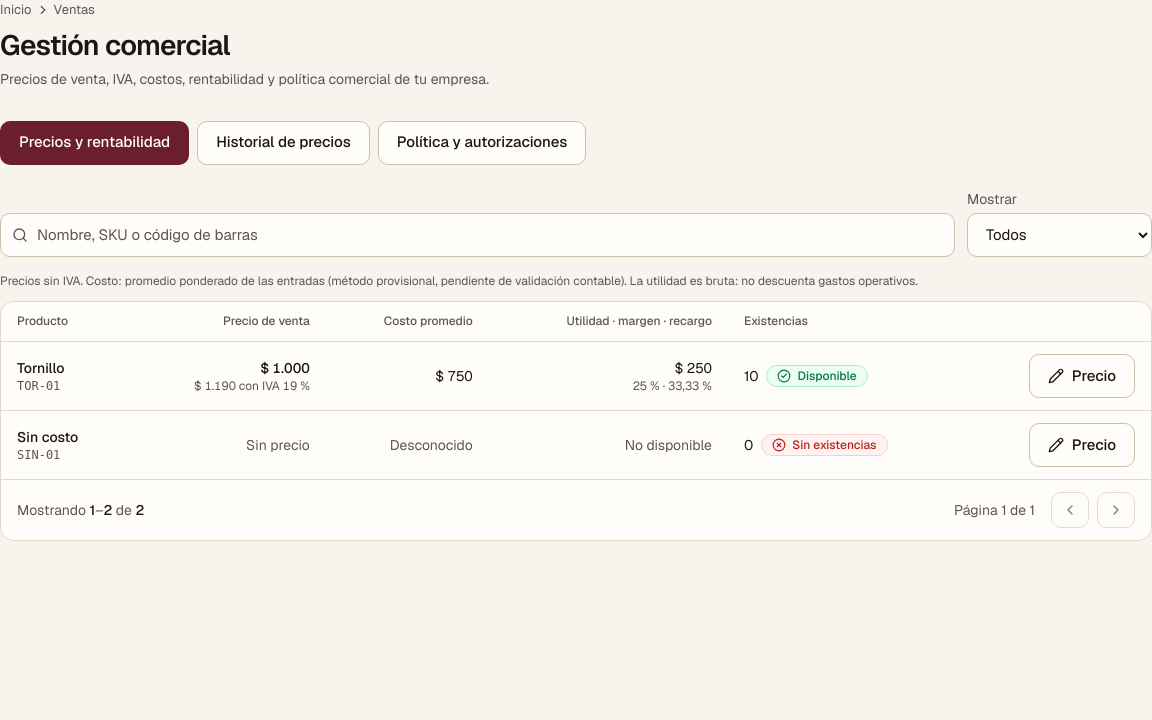
Test case: Gestión comercial › un producto excluido se envía con tarifa 0 y los errores del servidor se muestran
Click the button with aria-label "Cambiar precio de Tornillo". click: [1082, 376]
box: [1029,354,1135,398]
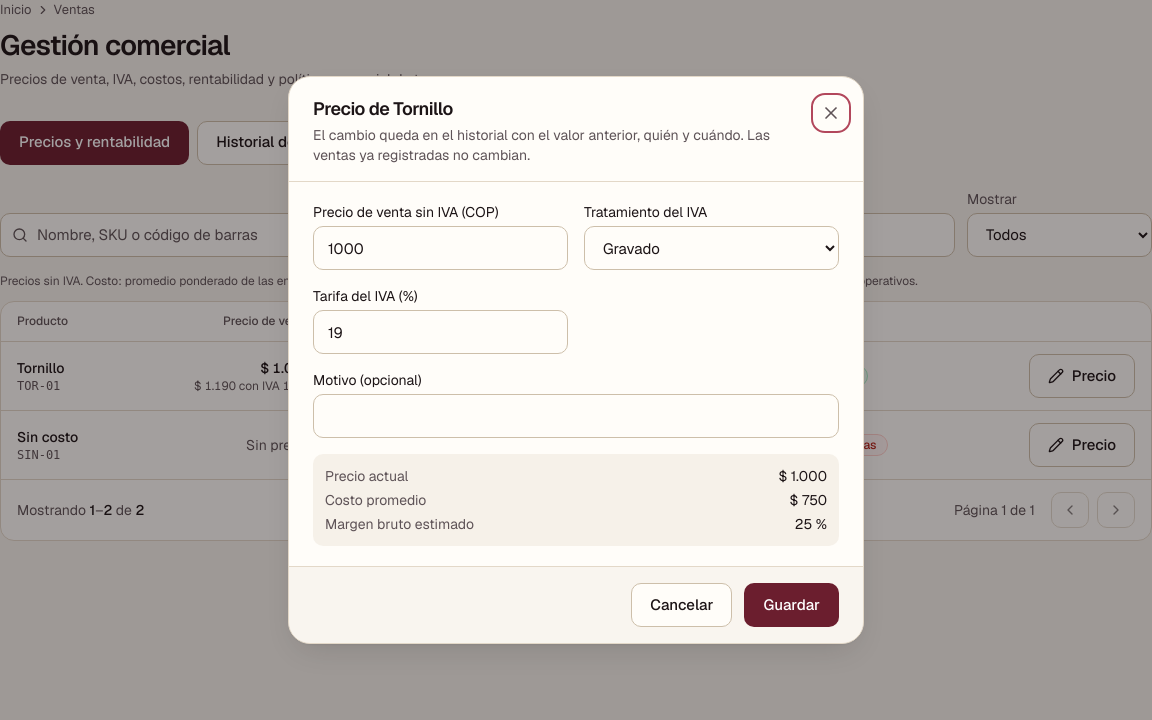
Select "Excluido" in the dropdown labelled "Tratamiento del IVA". click: [712, 248]
box: [584,226,839,270]
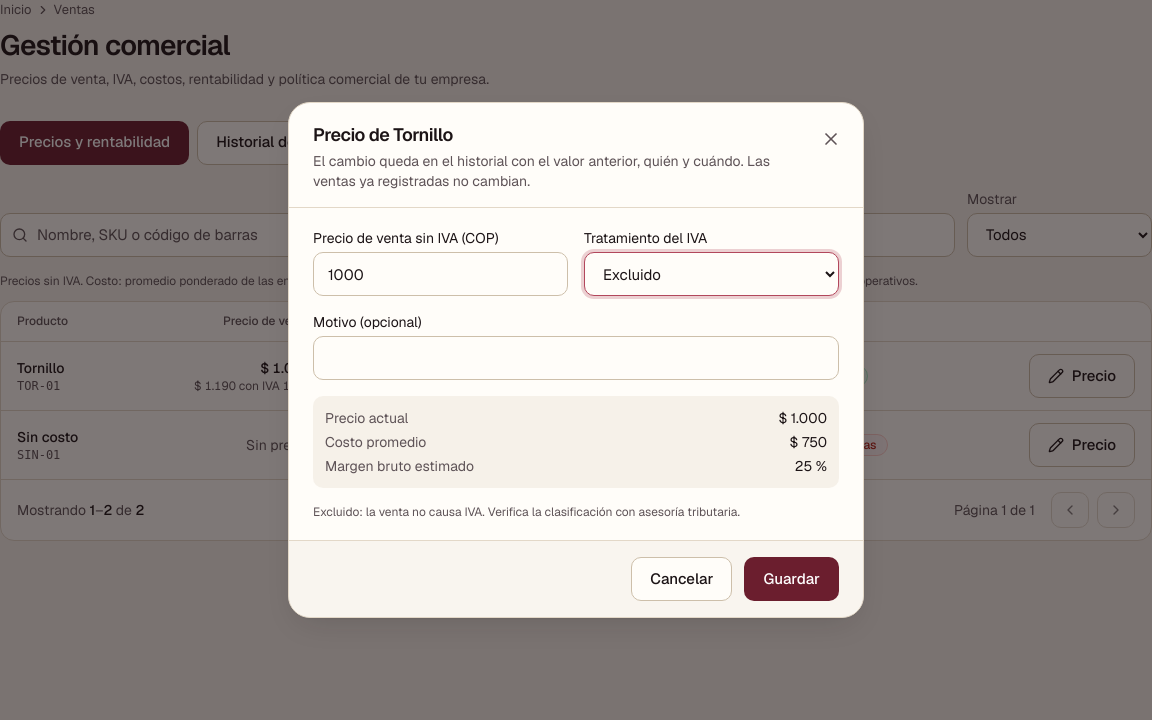
Check: the label labelled "Tarifa del IVA (%)" is gone
Click the button "Guardar". click: [792, 579]
box: [744,557,839,601]
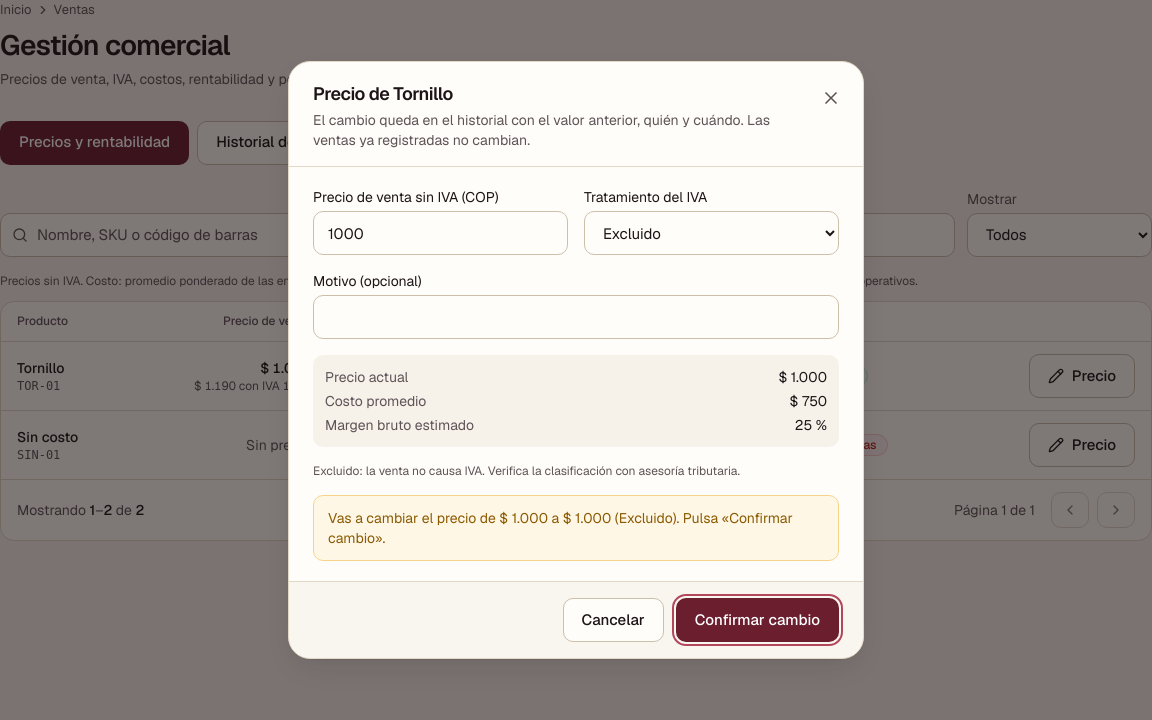
Click the button "Confirmar cambio". click: [757, 620]
box: [676,598,839,642]
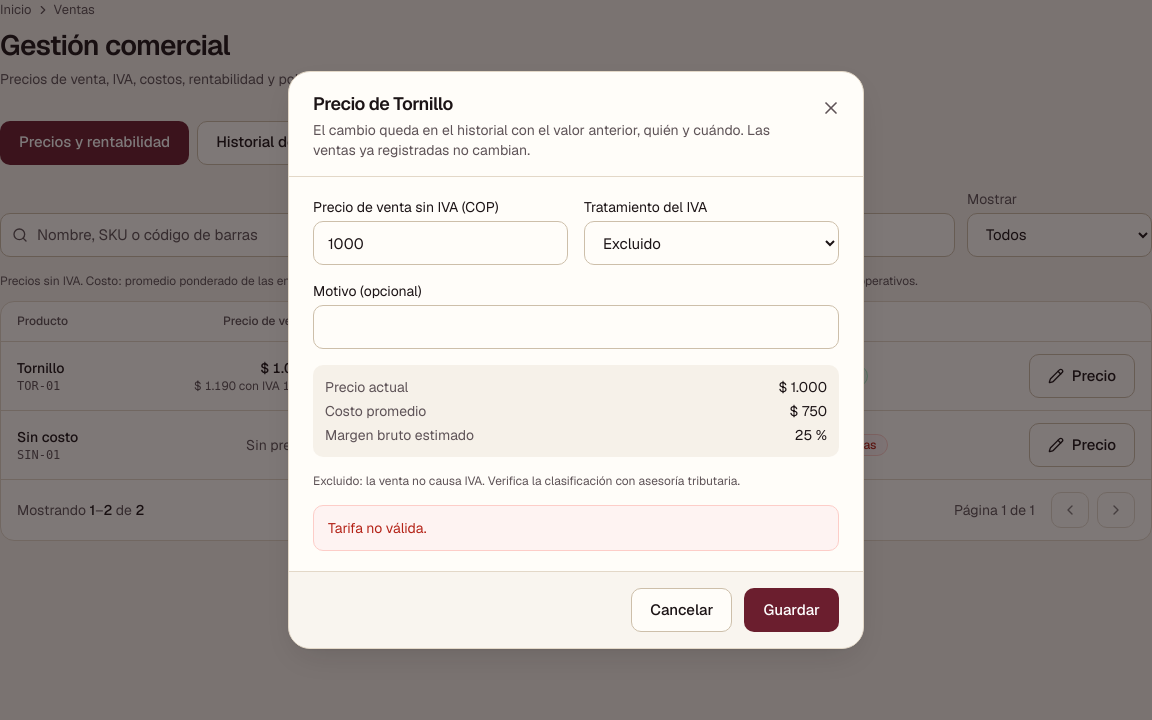
Check: the text "Tarifa no válida." is shown, box [313,505,839,551]
